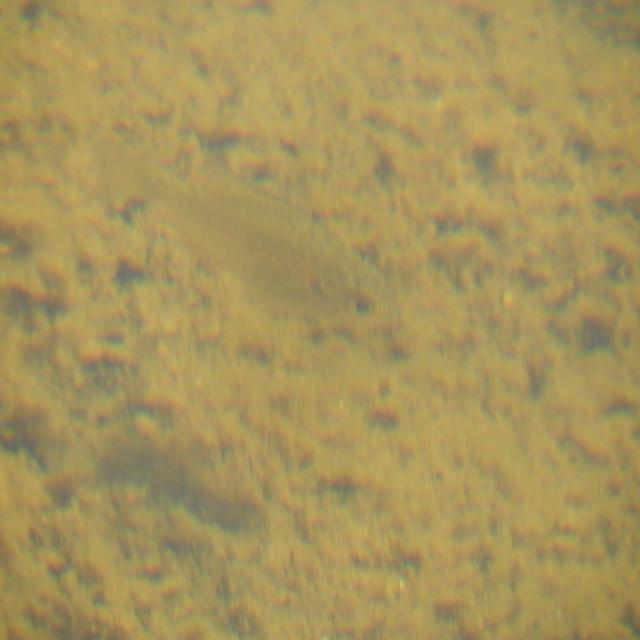Gunes Levregi: (2, 1, 637, 638), (108, 134, 402, 341)
